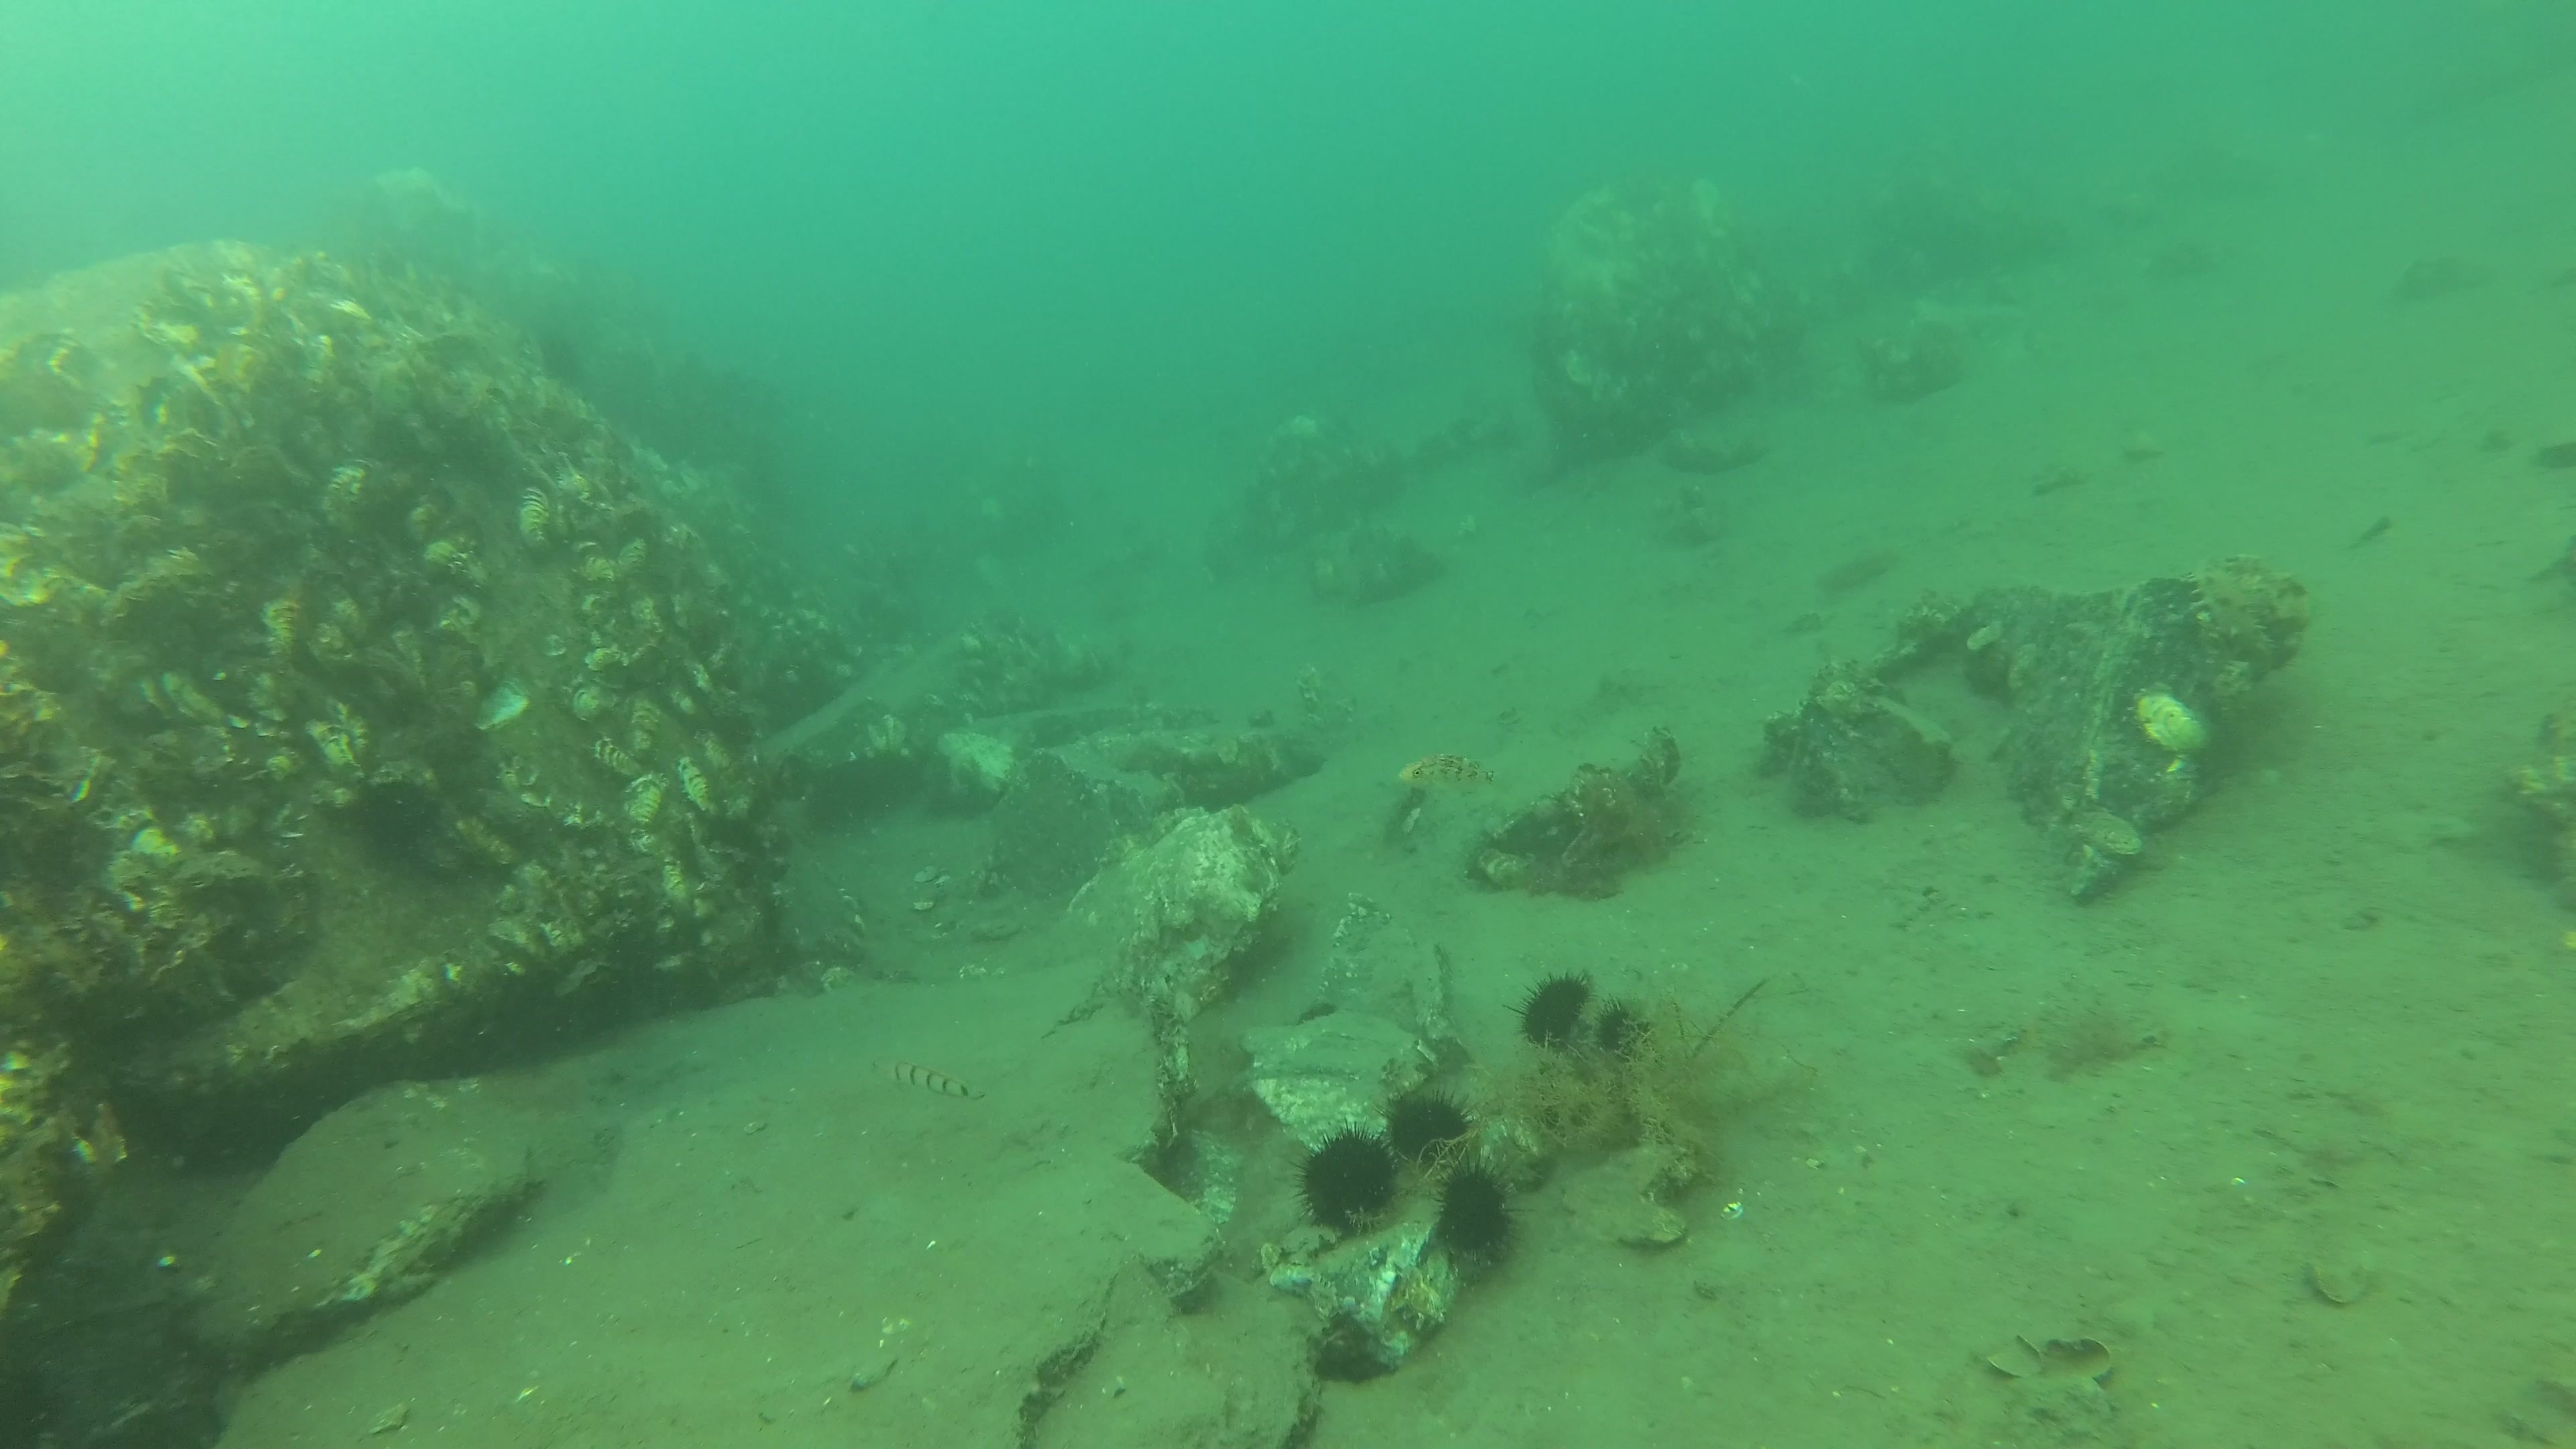echinus: (1299, 1123, 1396, 1230), (354, 777, 439, 863), (1520, 971, 1598, 1053), (1442, 1171, 1507, 1261), (1394, 1092, 1468, 1150), (1594, 1008, 1631, 1047)
